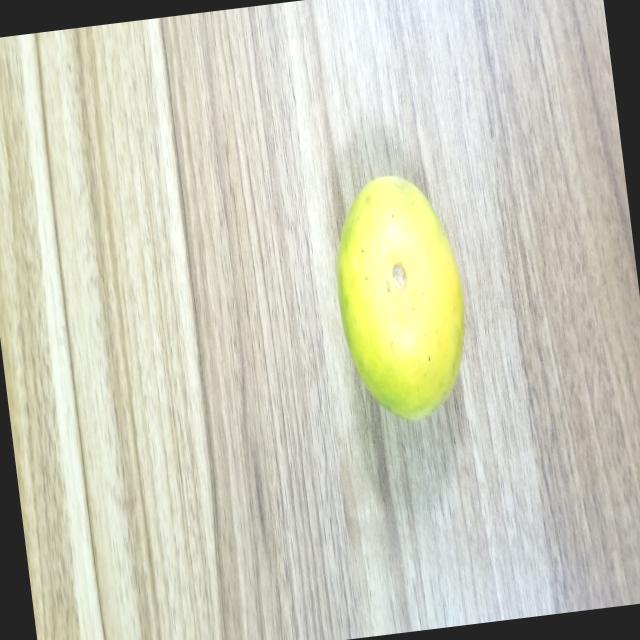Ripe orange: (314, 144, 492, 428)
